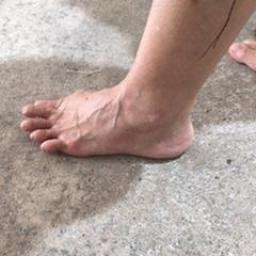Lateral View -Left Foot-: (15, 64, 214, 170)
